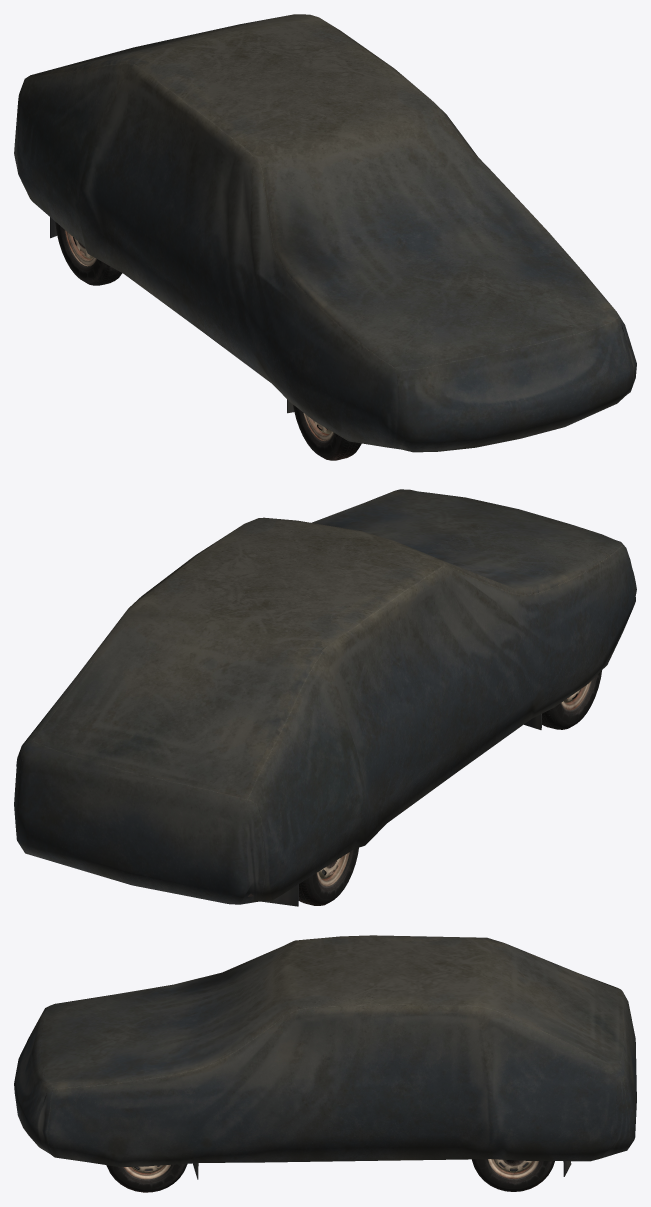
File: covered_car.glb
3 renders of one model, top to bottom at view 1: azimuth 30°, elevation 25°; view 2: azimuth 150°, elevation 25°; view 3: azimuth 270°, elevation 25°, orthographic. The views are drawn at different scales.
Parts seen in each view (by area): view 1: covered_car, covered_car_wheel_03, covered_car_wheel_02; view 2: covered_car, covered_car_wheel_03, covered_car_wheel_02; view 3: covered_car, covered_car_wheel_04, covered_car_wheel_01.
Boxes of the visible parts, x1=… form: covered_car: x1=14, y1=14, x2=636, y2=452; covered_car_wheel_03: x1=55, y1=222, x2=122, y2=285; covered_car_wheel_02: x1=293, y1=405, x2=361, y2=460; covered_car: x1=14, y1=489, x2=636, y2=906; covered_car_wheel_03: x1=298, y1=847, x2=358, y2=905; covered_car_wheel_02: x1=542, y1=670, x2=601, y2=729; covered_car: x1=14, y1=935, x2=636, y2=1179; covered_car_wheel_04: x1=472, y1=1159, x2=554, y2=1191; covered_car_wheel_01: x1=106, y1=1163, x2=187, y2=1192.
Size of the model in its own units: 1.79 by 1.41 by 4.38.
Materials: 2 (2 with a texture image).
